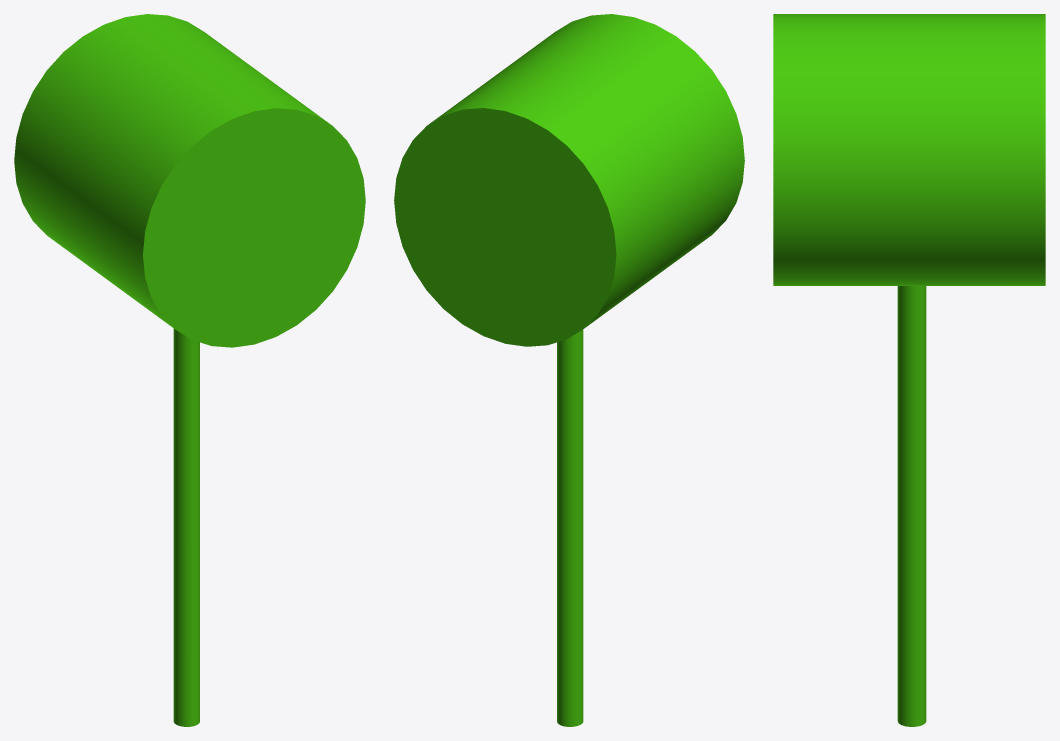
The model's file is hunmer.obj.
3 views of the same model, side by side, from view 1: azimuth 30°, elevation 25°; view 2: azimuth 150°, elevation 25°; view 3: azimuth 270°, elevation 25° (orthographic). The views are drawn at different scales.
Visible parts, largest first — view 1: 円柱.001; view 2: 円柱.001; view 3: 円柱.001.
Boxes of the visible parts, bbox=[...] form: 円柱.001: bbox=[14, 14, 365, 726]; 円柱.001: bbox=[394, 14, 744, 726]; 円柱.001: bbox=[773, 14, 1045, 726].
Size of the model in its own units: 2 by 5.64 by 2.
